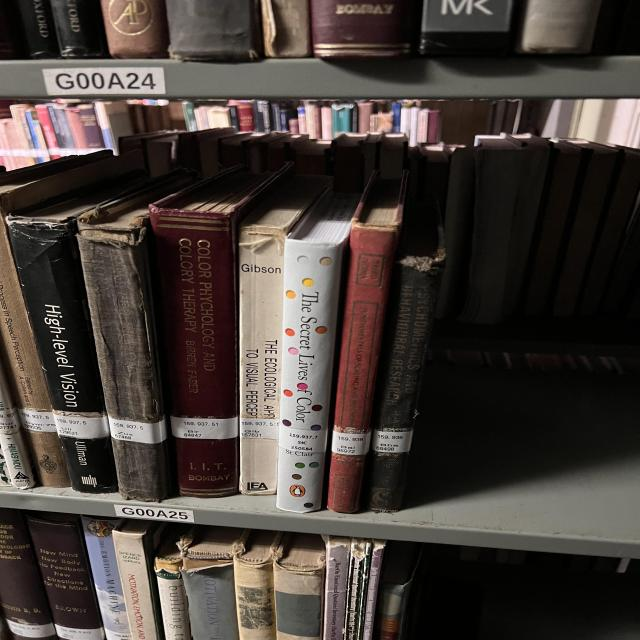Book: (150, 166, 290, 498), (7, 182, 132, 494), (77, 174, 195, 501), (238, 175, 332, 495), (327, 172, 407, 512), (277, 192, 360, 512), (367, 264, 438, 511)
Label: (170, 416, 238, 439), (108, 418, 167, 444), (53, 414, 110, 439), (278, 425, 327, 452), (332, 431, 372, 455), (372, 430, 413, 452), (240, 418, 278, 439)
